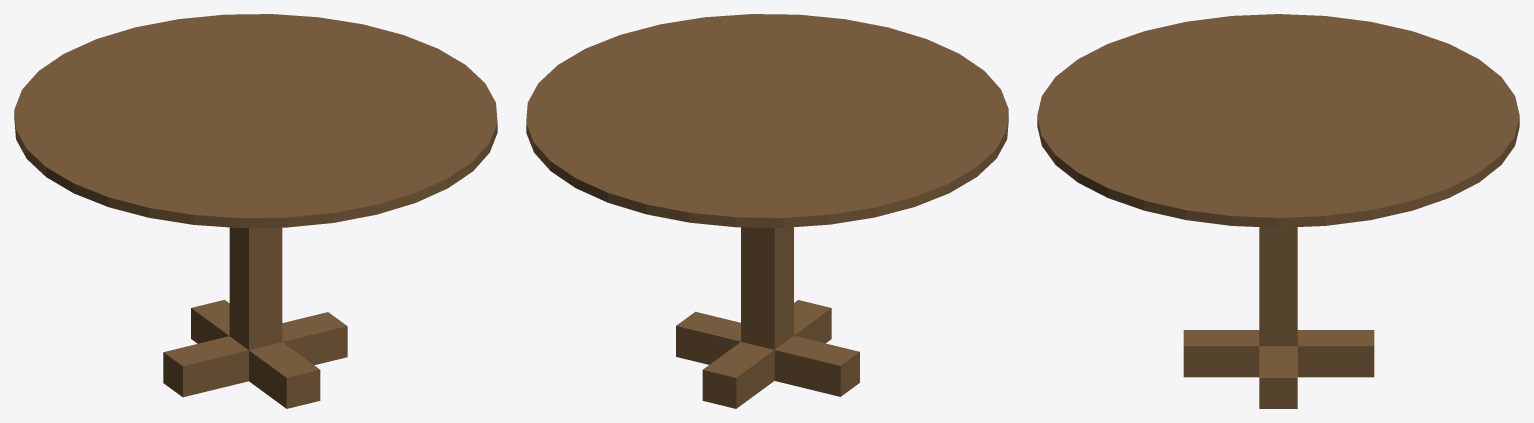
File: Table.fbx
The picture shows the model from 3 angles, left to right: view 1: azimuth 30°, elevation 25°; view 2: azimuth 150°, elevation 25°; view 3: azimuth 270°, elevation 25°; orthographic projection.
Parts seen in each view (by area): view 1: стол; view 2: стол; view 3: стол.
Part boxes in pixels (x1,y1,x2,y2): стол: (14,14,497,408); стол: (526,14,1008,408); стол: (1037,14,1519,408).
Bounding box in the file's own units: 200 × 116 × 200.
